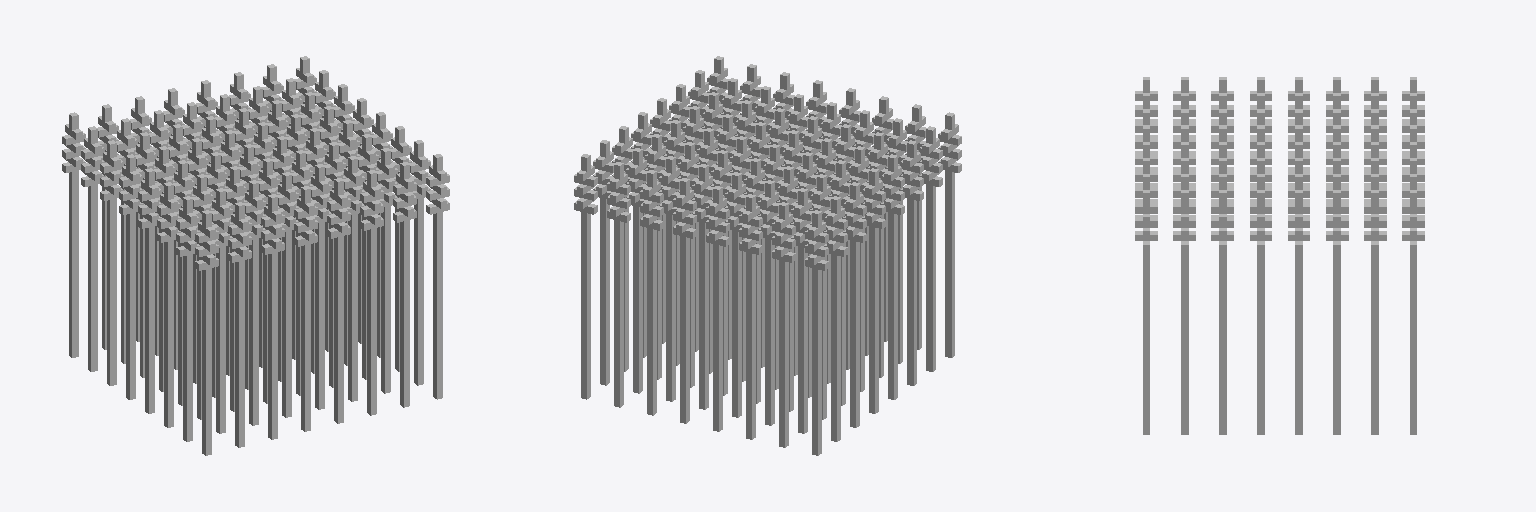
File: wheat.obj
3 renders of one model, left to right at view 1: azimuth 30°, elevation 25°; view 2: azimuth 150°, elevation 25°; view 3: azimuth 270°, elevation 25°, orthographic.
Parts seen in each view (by area): view 1: wheat; view 2: wheat; view 3: wheat.
Boxes of the visible parts, <box> form: wheat: <box>62,56,449,455</box>; wheat: <box>574,56,961,455</box>; wheat: <box>1135,77,1424,434</box>.
Size of the model in its own units: 38 by 35 by 38.